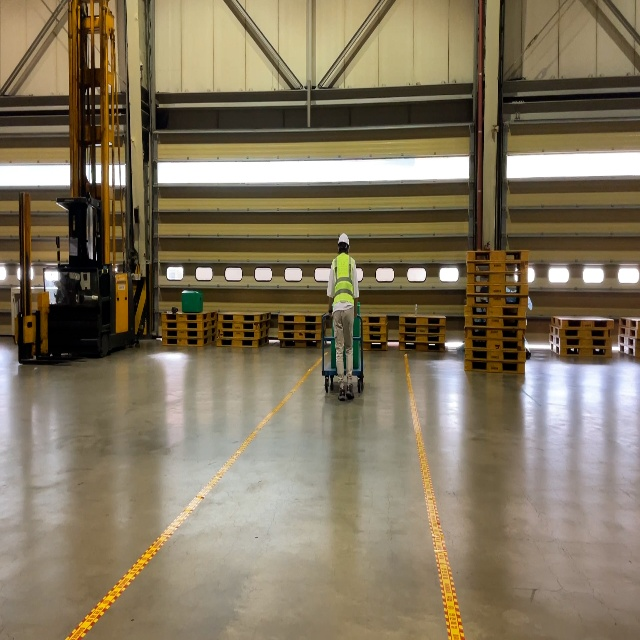Worker: (327, 233, 359, 401)
